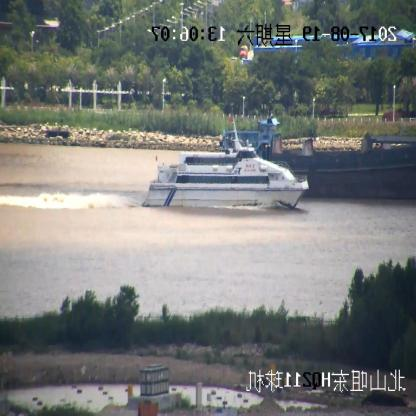Bulk Carrier: (221, 115, 415, 199)
